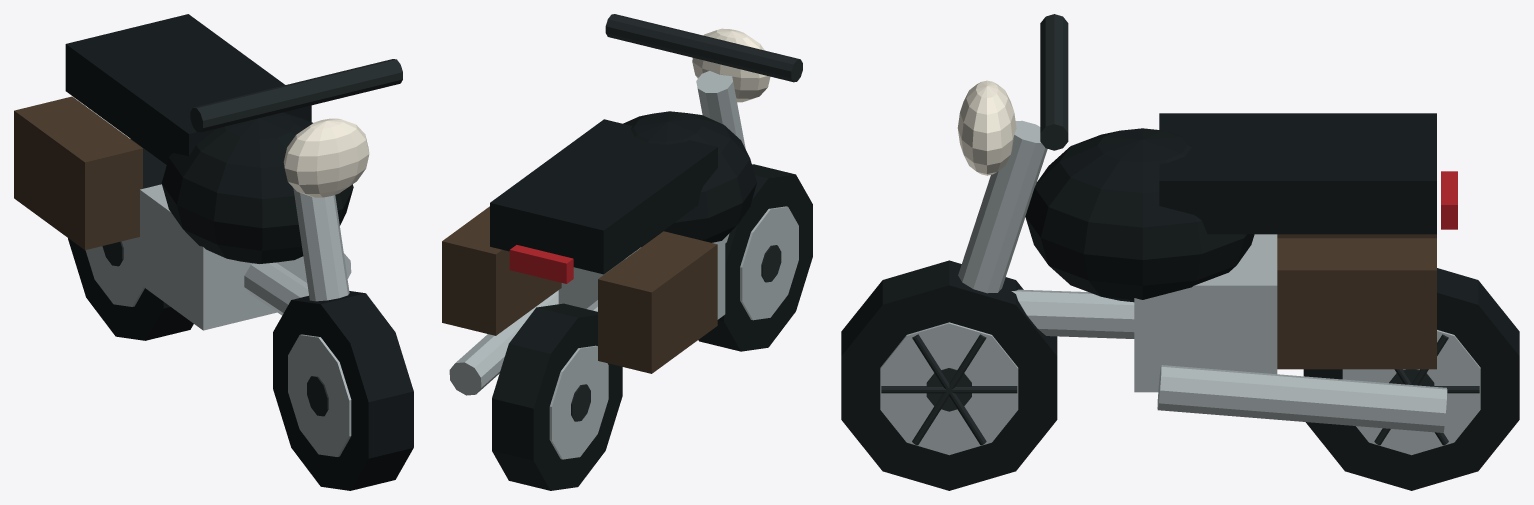
The model's file is good.glb.
3 views of the same model, side by side, from view 1: azimuth 30°, elevation 25°; view 2: azimuth 150°, elevation 25°; view 3: azimuth 270°, elevation 25° (orthographic). The views are drawn at different scales.
Parts seen in each view (by area): view 1: Fuel tank, Engine, Saddle bag, Handlebar, Headlight; view 2: Fuel tank, Saddle bag, Engine, Handlebar, Headlight, Rear light; view 3: Fuel tank, Engine, Saddle bag, Handlebar, Headlight, Rear light.
Part boxes in pixels (left/top/right/bottom): Fuel tank: left=65, top=14, right=413, bottom=490; Engine: left=85, top=184, right=351, bottom=456; Saddle bag: left=14, top=96, right=142, bottom=250; Handlebar: left=102, top=59, right=402, bottom=416; Headlight: left=283, top=118, right=369, bottom=197; Fuel tank: left=490, top=111, right=812, bottom=490; Saddle bag: left=442, top=206, right=717, bottom=373; Engine: left=449, top=71, right=798, bottom=459; Handlebar: left=571, top=14, right=802, bottom=421; Headlight: left=692, top=28, right=770, bottom=102; Rear light: left=509, top=245, right=573, bottom=283; Fuel tank: left=841, top=113, right=1519, bottom=490; Engine: left=880, top=120, right=1480, bottom=455; Saddle bag: left=1277, top=234, right=1436, bottom=369; Handlebar: left=881, top=14, right=1479, bottom=445; Headlight: left=957, top=80, right=1016, bottom=175; Rear light: left=1441, top=171, right=1457, bottom=229.
Bounding box in the file's own units: 0.4 × 0.6143 × 0.922.
